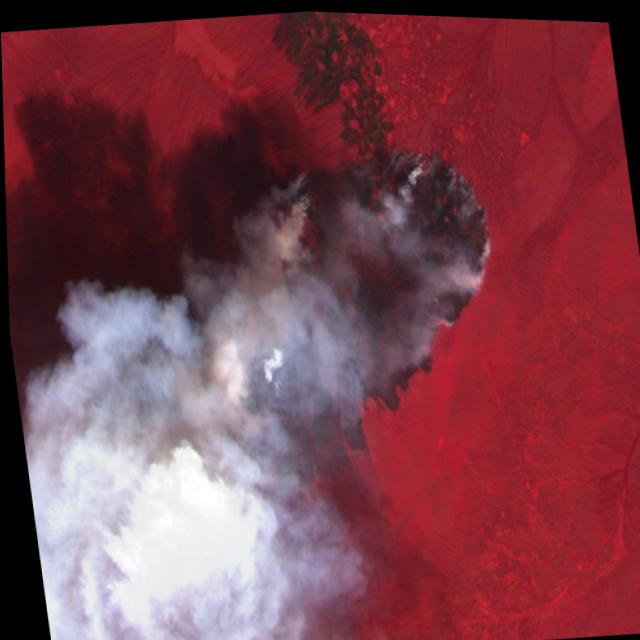fire: (175, 115, 523, 526)
